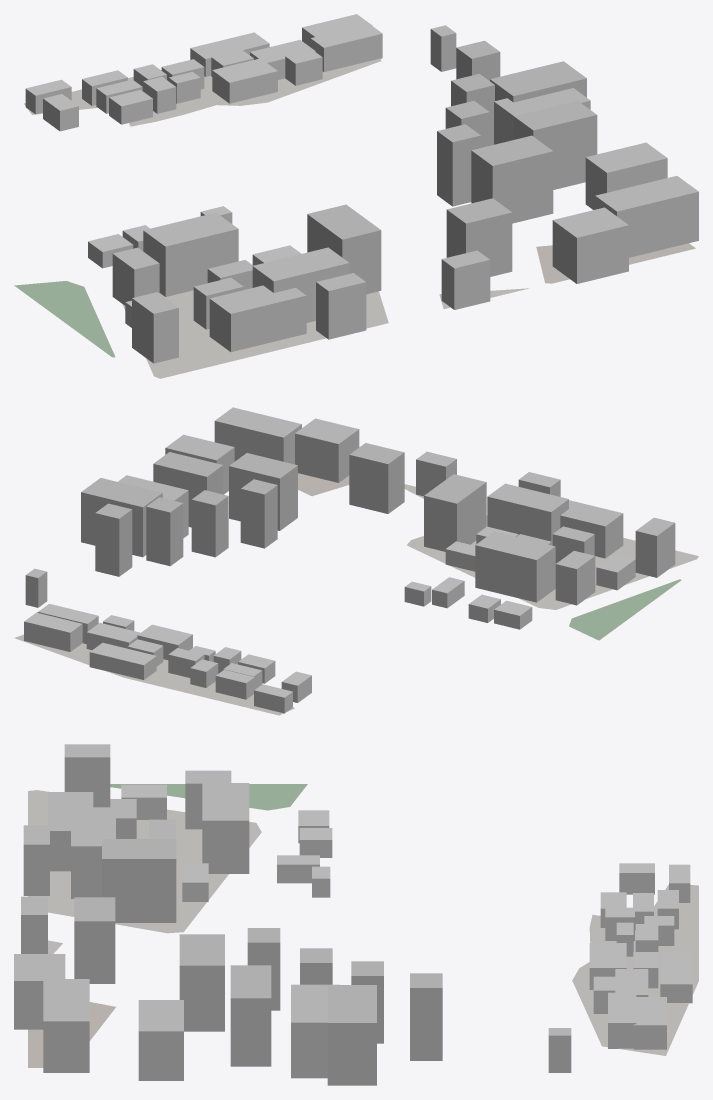
The model's file is 131_110_mid.glb.
The picture shows the model from 3 angles, top to bottom: view 1: azimuth 30°, elevation 25°; view 2: azimuth 150°, elevation 25°; view 3: azimuth 270°, elevation 25°; orthographic projection. The views are drawn at different scales.
Bounding box in the file's own units: 530 × 60.66 × 510.
